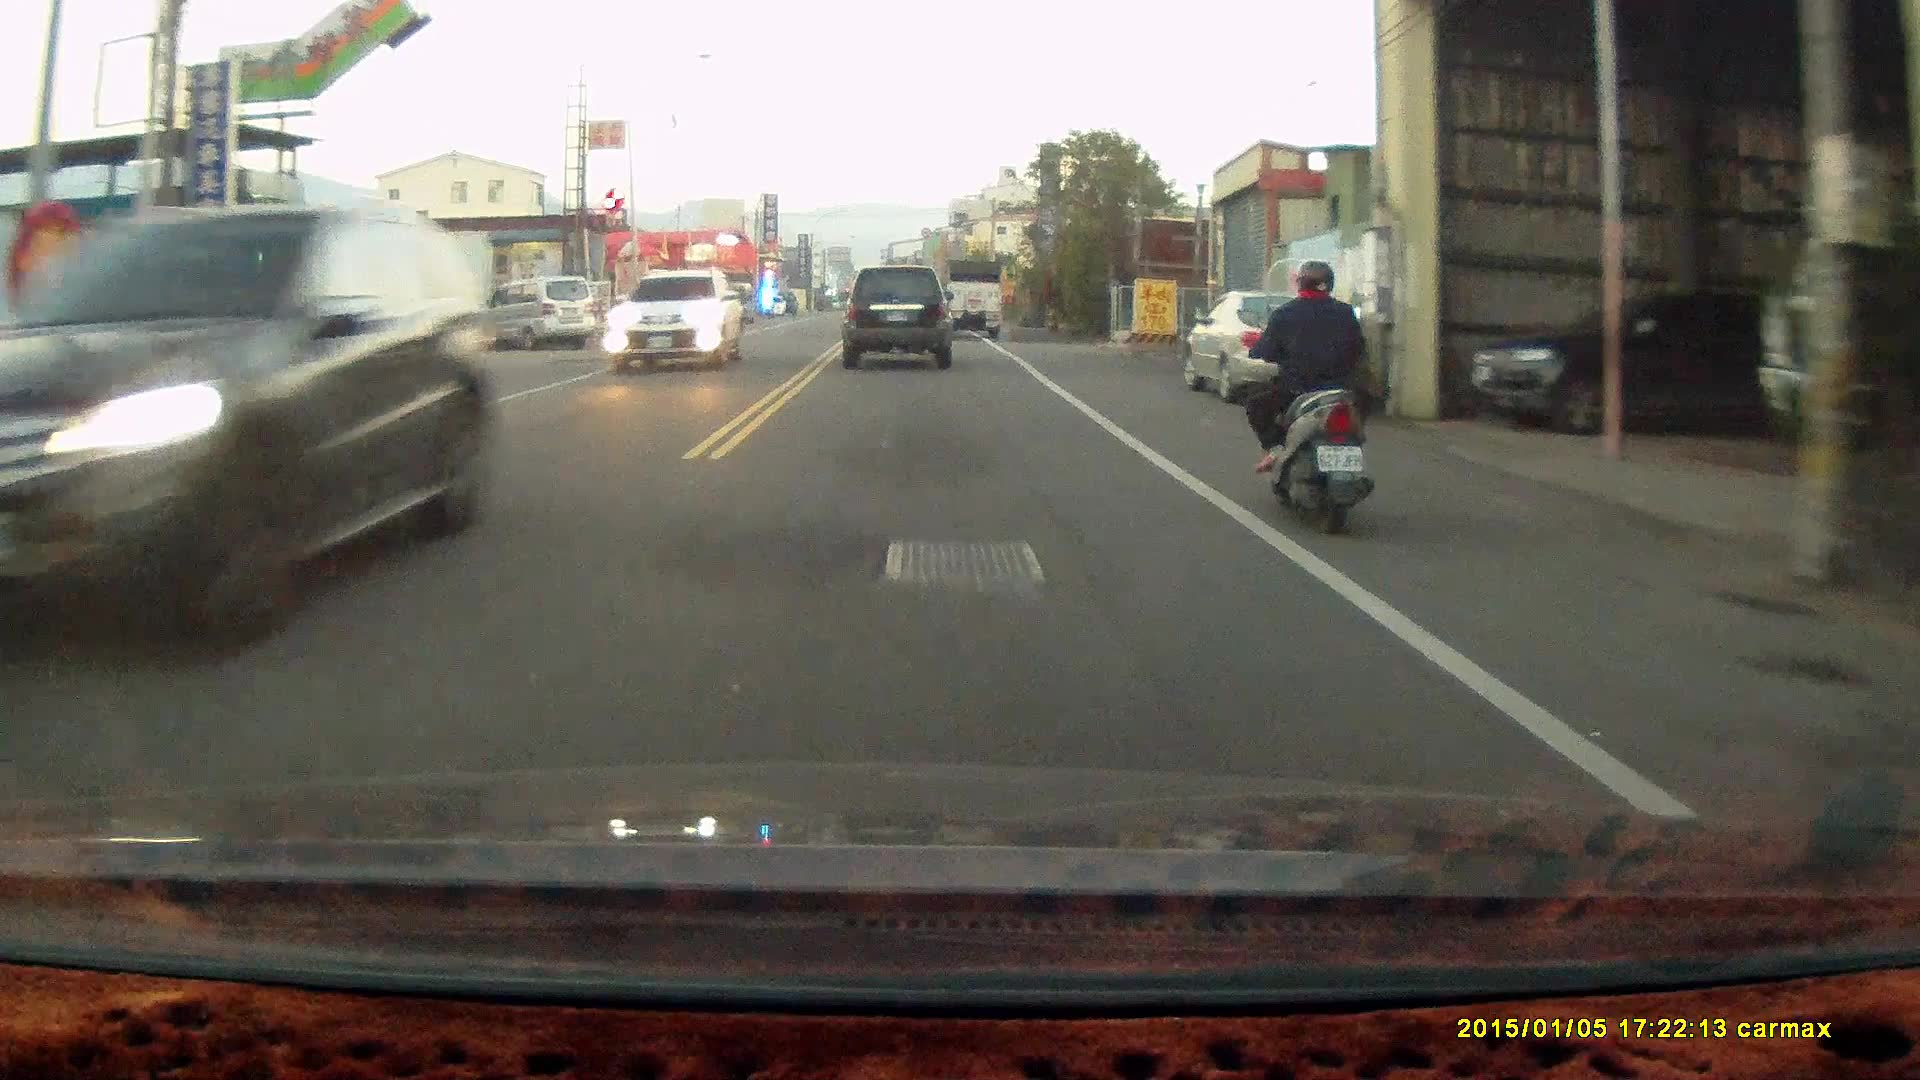rider: (1232, 257, 1374, 536)
vehicle: (1, 200, 506, 656), (1474, 294, 1794, 436), (1183, 280, 1372, 402), (603, 272, 748, 380), (843, 265, 955, 372), (487, 275, 594, 357), (936, 258, 1006, 340)
